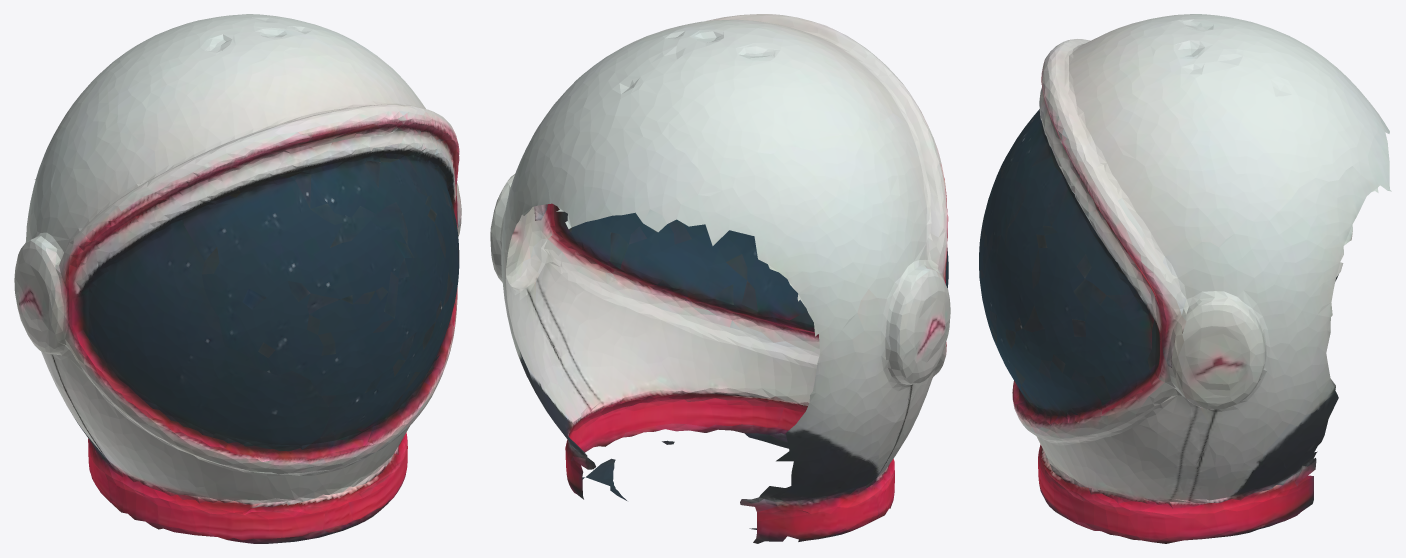
File: astronaut_head.glb
The picture shows the model from 3 angles, left to right: view 1: azimuth 30°, elevation 25°; view 2: azimuth 150°, elevation 25°; view 3: azimuth 270°, elevation 25°; orthographic projection. The views are drawn at different scales.
Parts seen in each view (by area): view 1: tmp34g0m7c8ply003001; view 2: tmp34g0m7c8ply003001; view 3: tmp34g0m7c8ply003001.
Boxes of the visible parts, x1,y1,x2,y2 form: tmp34g0m7c8ply003001: (14, 14, 461, 543); tmp34g0m7c8ply003001: (490, 14, 950, 543); tmp34g0m7c8ply003001: (979, 14, 1391, 543).
Bounding box in the file's own units: 0.9224 × 0.9484 × 0.7861.
Materials: 1 (1 with a texture image).
